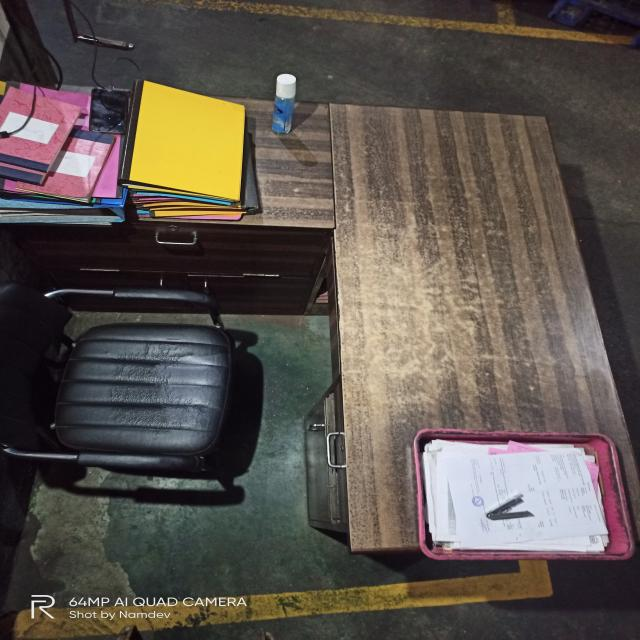book: (127, 80, 262, 222)
bottle: (272, 72, 300, 134)
chair: (0, 284, 255, 497)
table: (321, 103, 640, 558)
